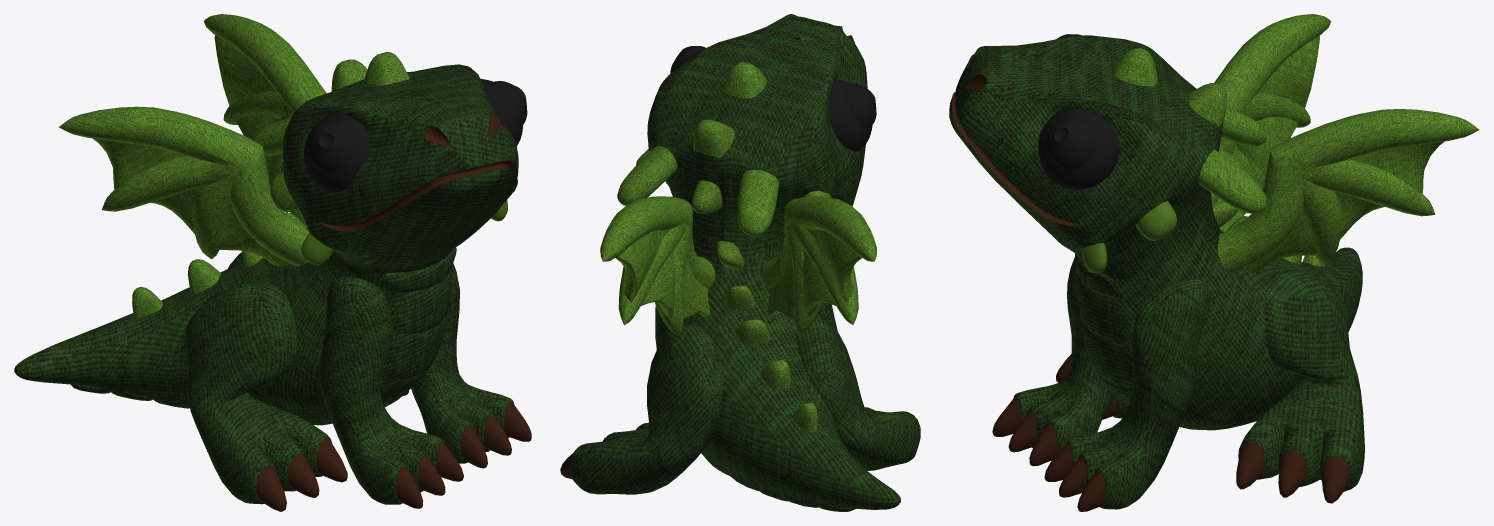
Rendered from dragon.fbx.
3 renders of one model, left to right at view 1: azimuth 30°, elevation 25°; view 2: azimuth 150°, elevation 25°; view 3: azimuth 270°, elevation 25°, orthographic. The views are drawn at different scales.
Visible parts, largest first — view 1: Object_1; view 2: Object_1; view 3: Object_1.
Part boxes in pixels (box(x1,y1,x2,y2)): Object_1: box(14, 14, 531, 511); Object_1: box(560, 14, 920, 511); Object_1: box(949, 14, 1479, 511).
Size of the model in its own units: 19.79 by 19.6 by 23.05.
Materials: 4 (2 with a texture image).
